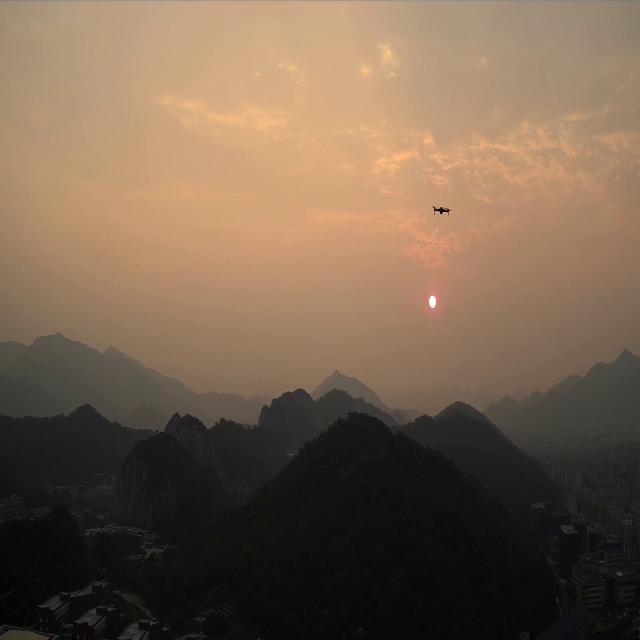drone: (432, 204, 452, 217)
